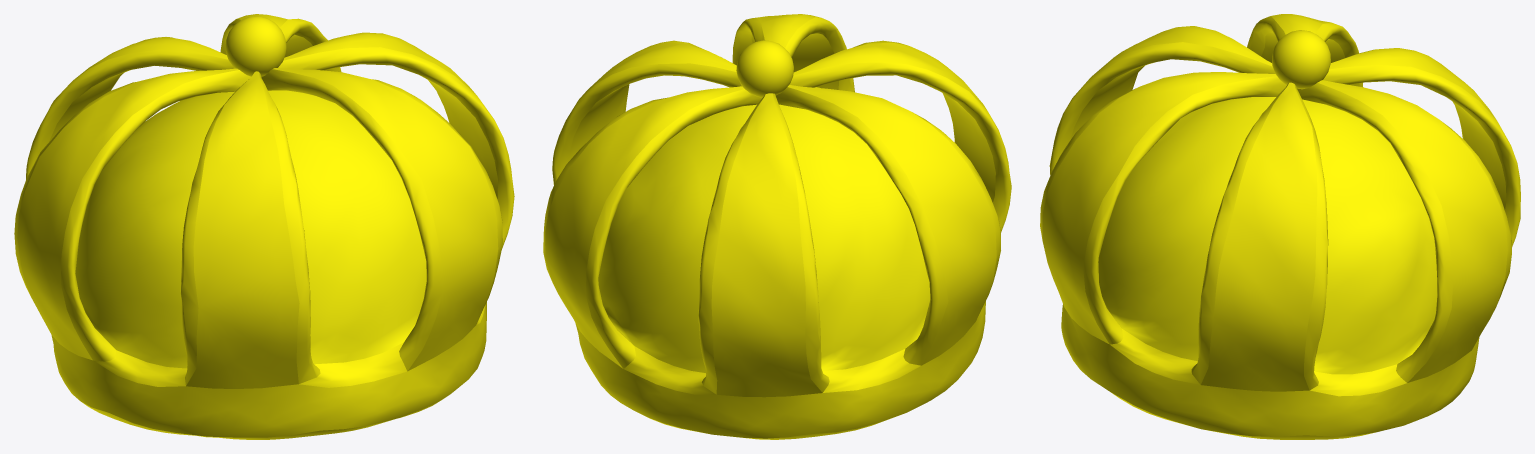
File: Crown.fbx
3 views of the same model, side by side, from view 1: azimuth 30°, elevation 25°; view 2: azimuth 150°, elevation 25°; view 3: azimuth 270°, elevation 25° (orthographic). The views are drawn at different scales.
Parts seen in each view (by area): view 1: m_CrownHat02_001, Icosphere; view 2: m_CrownHat02_001, Icosphere; view 3: m_CrownHat02_001, Icosphere.
Part boxes in pixels (<box>): m_CrownHat02_001: <box>14,14,514,439</box>; Icosphere: <box>225,16,286,76</box>; m_CrownHat02_001: <box>543,14,1011,439</box>; Icosphere: <box>736,40,793,97</box>; m_CrownHat02_001: <box>1040,14,1520,439</box>; Icosphere: <box>1272,30,1330,89</box>.
Size of the model in its own units: 469 by 358 by 459.
